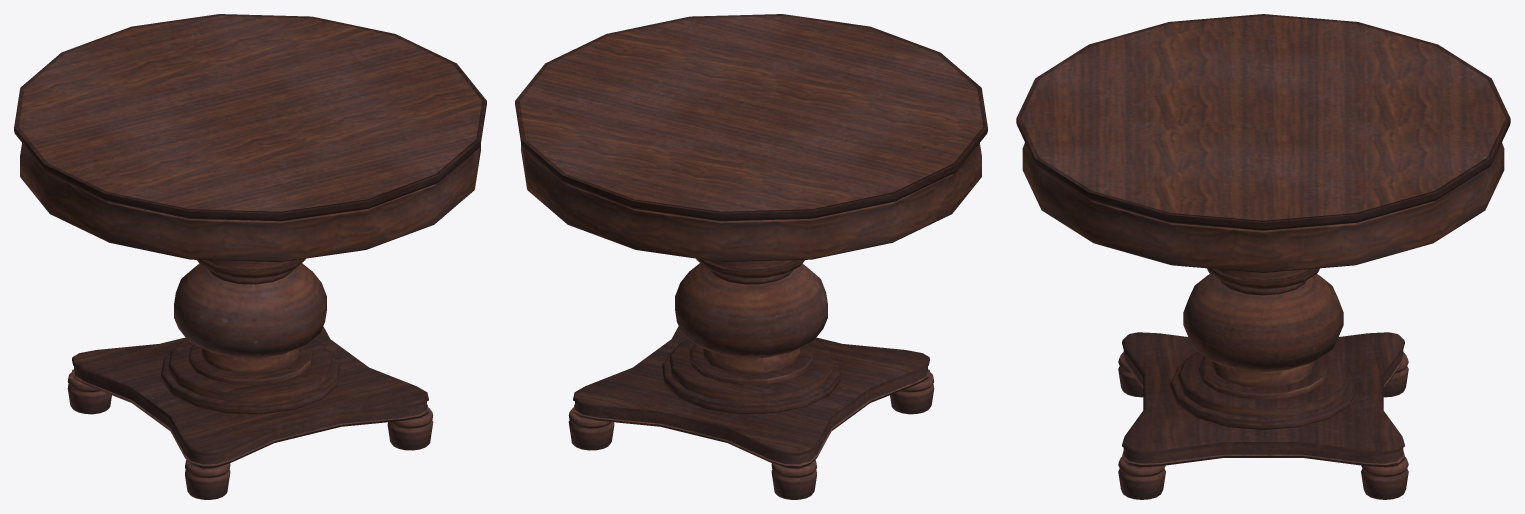
Rendered from simple_wood_table.glb.
3 views of the same model, side by side, from view 1: azimuth 30°, elevation 25°; view 2: azimuth 150°, elevation 25°; view 3: azimuth 270°, elevation 25° (orthographic). The views are drawn at different scales.
Visible parts, largest first — view 1: Object_2; view 2: Object_2; view 3: Object_2.
Boxes of the visible parts, x1,y1,x2,y2 form: Object_2: [14, 14, 486, 499]; Object_2: [515, 14, 987, 499]; Object_2: [1016, 14, 1510, 499].
Bounding box in the file's own units: 9.01 × 6.49 × 9.01.
1 material, 1 textured.
